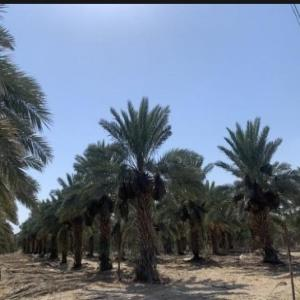palm tree: (0, 0, 54, 285), (98, 95, 172, 283), (214, 116, 296, 264)
